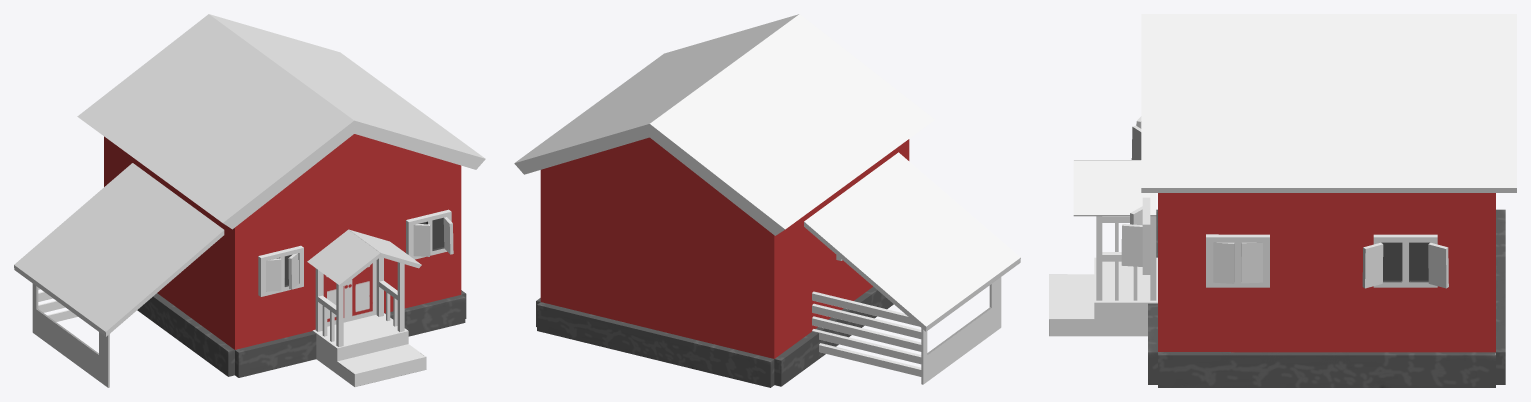
Rendered from Farmhouse.fbx.
The picture shows the model from 3 angles, left to right: view 1: azimuth 30°, elevation 25°; view 2: azimuth 150°, elevation 25°; view 3: azimuth 270°, elevation 25°; orthographic projection. The views are drawn at different scales.
Visible parts, largest first — view 1: polySurface115; view 2: polySurface115; view 3: polySurface115.
Boxes of the visible parts, x1,y1,x2,y2 form: polySurface115: (14,14,485,387); polySurface115: (514,14,1020,387); polySurface115: (1049,14,1516,387).
Bounding box in the file's own units: 52.69 × 32.17 × 45.55.
2 materials, 2 textured.
